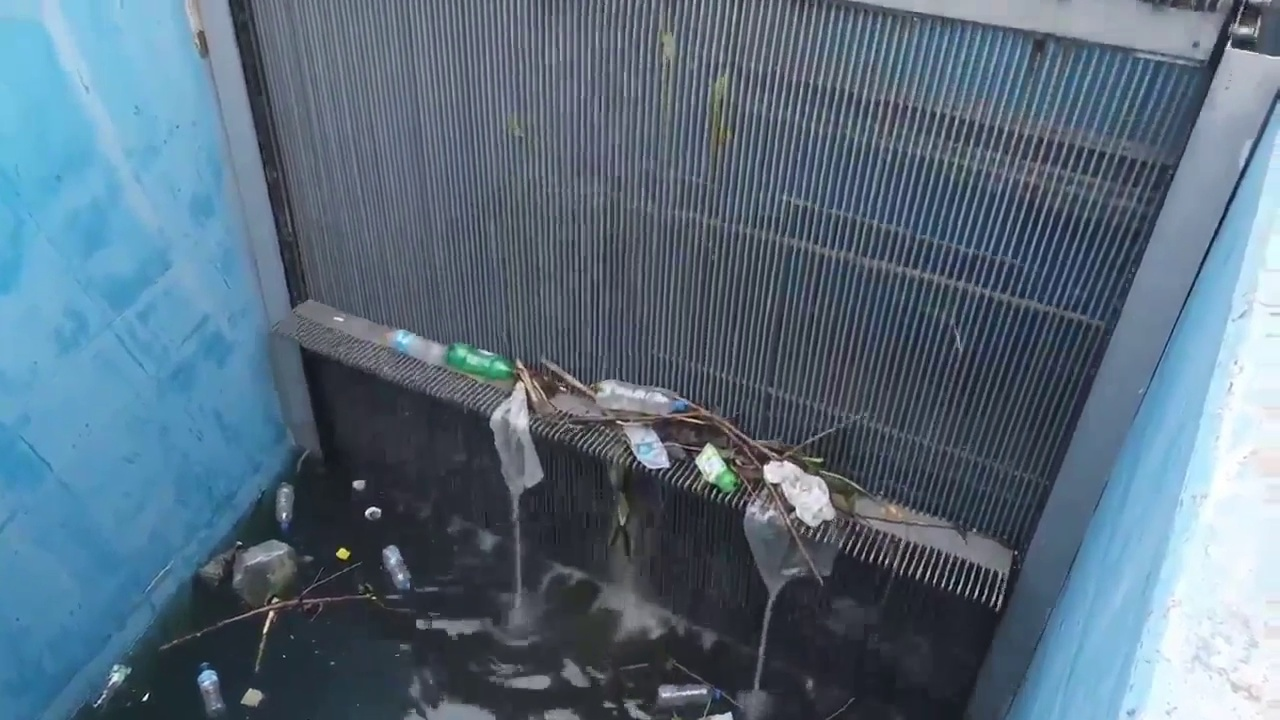debris: (504, 359, 878, 583), (158, 592, 398, 649), (743, 496, 837, 596), (387, 330, 514, 380), (489, 383, 542, 494), (763, 461, 834, 527), (232, 540, 297, 606), (594, 380, 688, 415), (621, 424, 669, 469), (197, 543, 242, 589), (695, 444, 738, 492), (197, 663, 227, 718), (93, 664, 130, 708), (655, 684, 720, 709), (254, 610, 278, 674), (549, 393, 607, 419), (382, 545, 411, 591), (669, 659, 711, 686), (274, 482, 294, 533), (561, 658, 589, 687), (240, 688, 264, 707), (364, 506, 381, 520), (335, 547, 351, 560), (415, 617, 431, 630), (703, 712, 732, 719), (352, 479, 366, 491), (140, 691, 148, 702)
